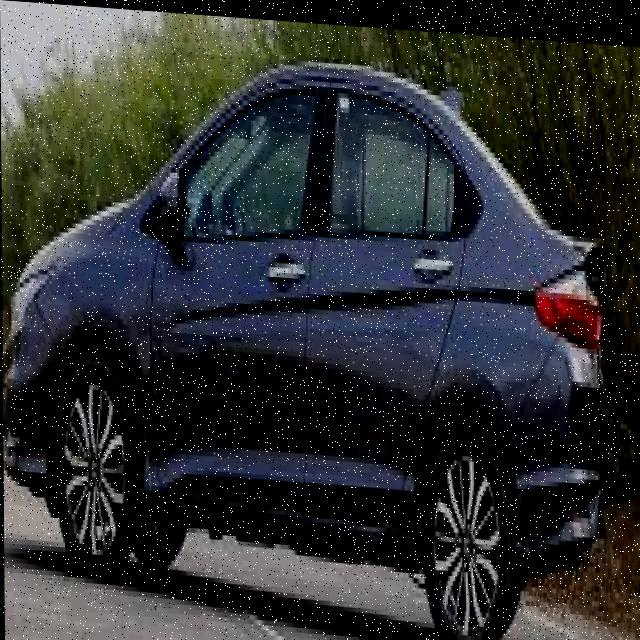car: (0, 72, 616, 622)
